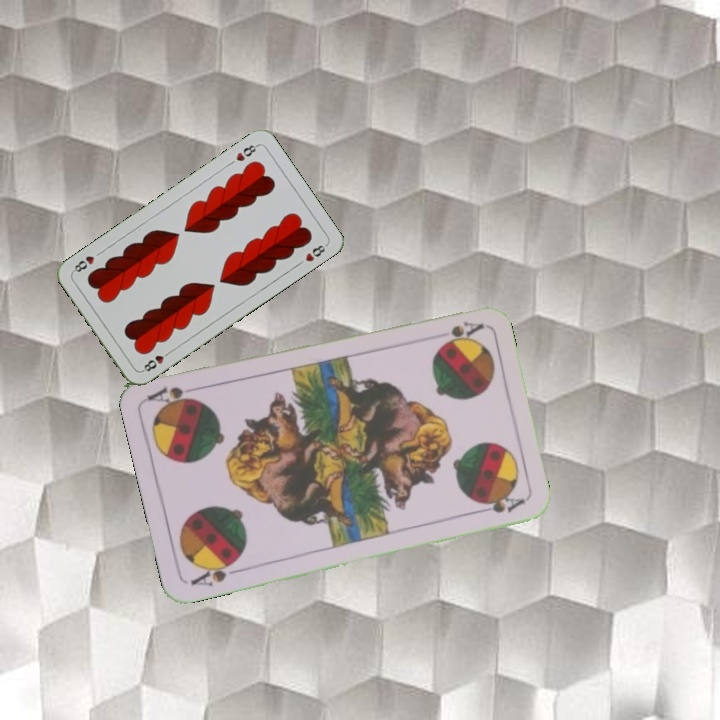H8: (138, 347, 174, 374), (232, 140, 261, 164)
SA: (186, 555, 244, 589), (443, 317, 486, 343)
